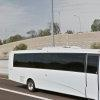Bus: (5, 45, 100, 99)
